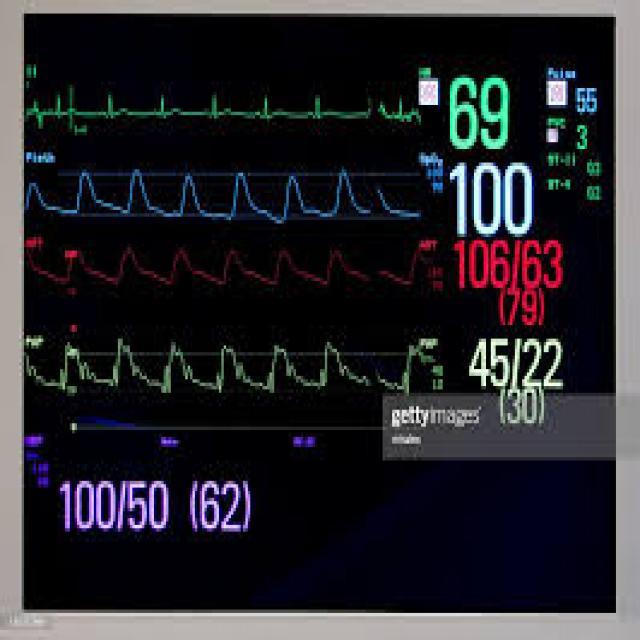cardiac_monitor: (36, 29, 611, 610)
